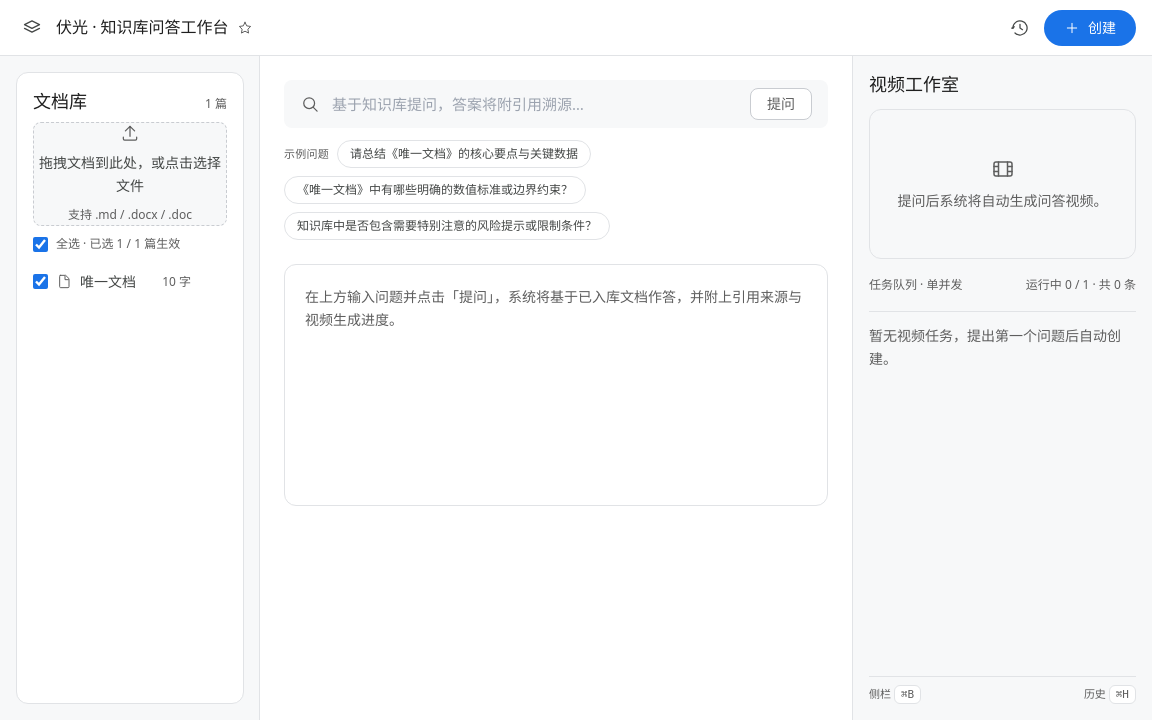
App 三栏工作台 › 取消所有文档后发送按钮禁用并展示提示
The width and height of the screenshot is (1152, 720).
Expected: the checkbox named "选择文档 唯一文档" is checked, [33,274,48,290]
What coordinates should you click on to do the following:
click the checkbox named "全选文档"
I would click on:
 (40, 244)
Its box is [33,237,48,252].
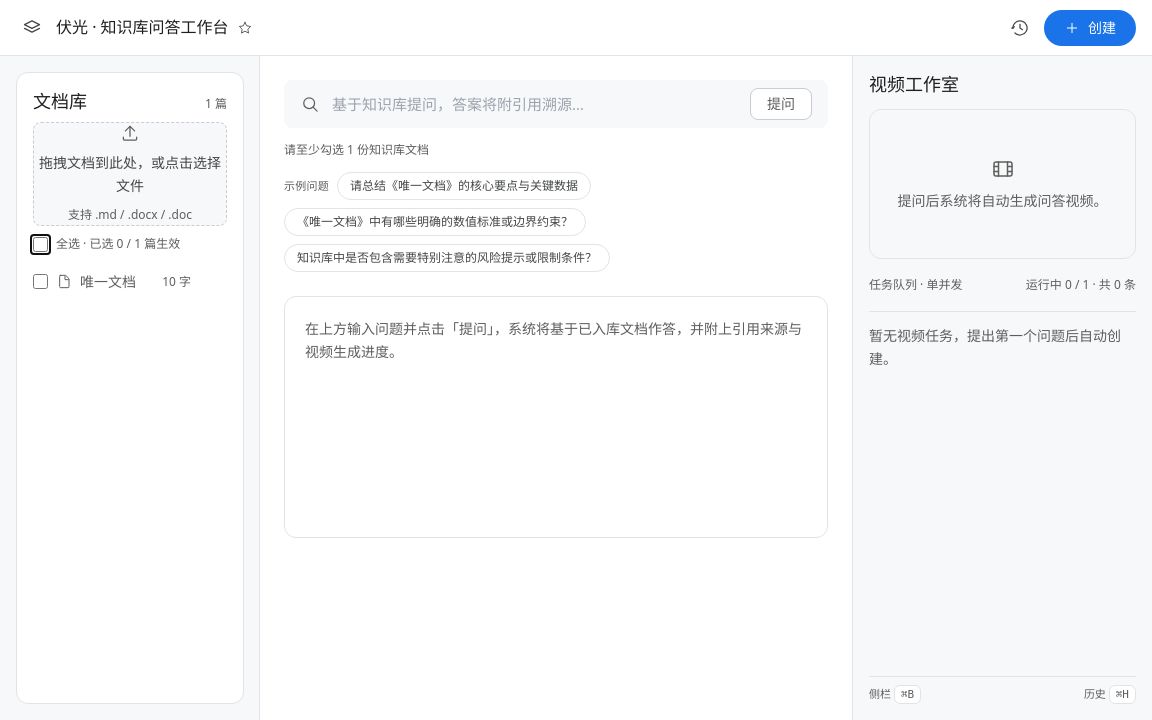
Expected: the button "提问" is disabled, [750,88,812,120]
Expected: the checkbox named "选择文档 唯一文档" is not checked, [33,274,48,290]
Expected: the text "请至少勾选 1 份知识库文档" is shown, [284,141,429,158]
